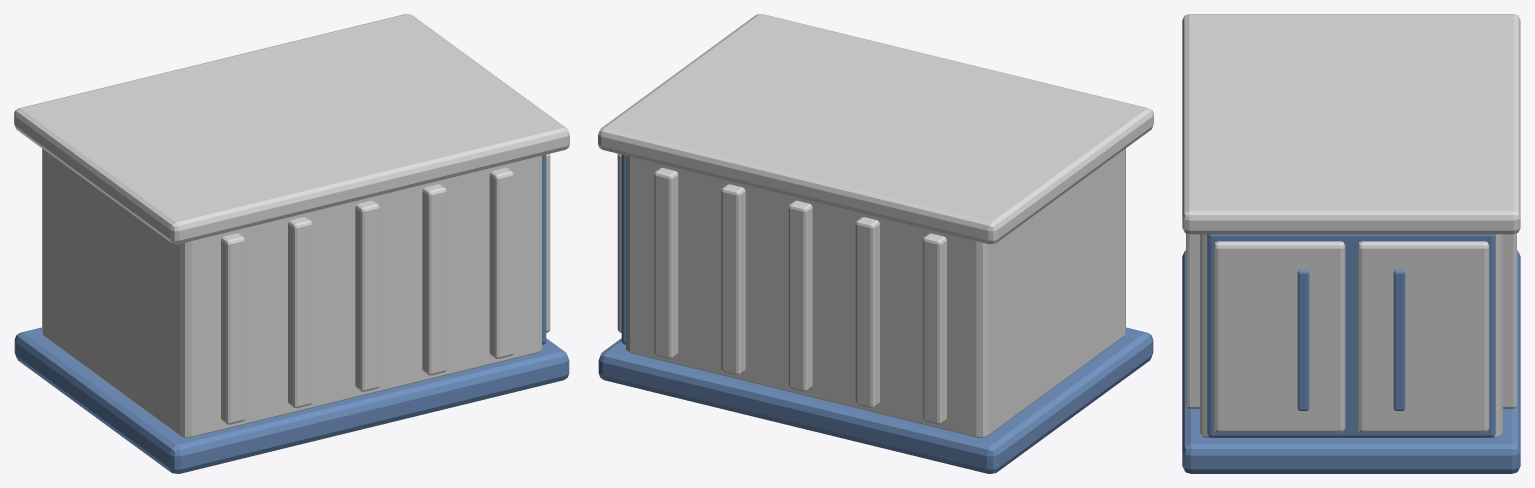
File: container.glb
3 views of the same model, side by side, from view 1: azimuth 30°, elevation 25°; view 2: azimuth 150°, elevation 25°; view 3: azimuth 270°, elevation 25° (orthographic). The views are drawn at different scales.
Parts seen in each view (by area): view 1: shell, roof, underframe, rib.1.1, rib.1.3, rib.1.4, rib.1.2, rib.1.0, door-frame, door.1; view 2: shell, roof, underframe, rib.-1.1, rib.-1.3, rib.-1.4, rib.-1.2, rib.-1.0, door-frame, door.-1; view 3: roof, door.1, door.-1, underframe, door-frame, shell, rib.1.4, rib.-1.4, locking-bar.1, locking-bar.-1.
Boxes of the visible parts, x1=… form: shell: x1=42, y1=148, x2=541, y2=437; roof: x1=14, y1=14, x2=569, y2=244; underframe: x1=14, y1=327, x2=569, y2=473; rib.1.1: x1=288, y1=217, x2=312, y2=408; rib.1.3: x1=422, y1=184, x2=446, y2=375; rib.1.4: x1=489, y1=168, x2=513, y2=358; rib.1.2: x1=355, y1=200, x2=379, y2=391; rib.1.0: x1=221, y1=233, x2=244, y2=424; door-frame: x1=542, y1=154, x2=546, y2=344; door.1: x1=546, y1=153, x2=550, y2=332; shell: x1=626, y1=148, x2=1125, y2=437; roof: x1=598, y1=14, x2=1153, y2=244; underframe: x1=598, y1=327, x2=1153, y2=473; rib.-1.1: x1=855, y1=217, x2=879, y2=408; rib.-1.3: x1=721, y1=184, x2=745, y2=375; rib.-1.4: x1=654, y1=168, x2=678, y2=358; rib.-1.2: x1=788, y1=200, x2=812, y2=391; rib.-1.0: x1=923, y1=233, x2=946, y2=424; door-frame: x1=621, y1=154, x2=625, y2=344; door.-1: x1=617, y1=153, x2=621, y2=332; roof: x1=1182, y1=14, x2=1520, y2=234; door.1: x1=1213, y1=241, x2=1345, y2=432; door.-1: x1=1357, y1=241, x2=1489, y2=432; underframe: x1=1182, y1=250, x2=1520, y2=473; door-frame: x1=1207, y1=234, x2=1495, y2=437; shell: x1=1200, y1=234, x2=1502, y2=437; rib.1.4: x1=1186, y1=233, x2=1199, y2=408; rib.-1.4: x1=1503, y1=233, x2=1516, y2=408; locking-bar.1: x1=1297, y1=270, x2=1309, y2=410; locking-bar.-1: x1=1393, y1=270, x2=1405, y2=410.
Bounding box in the file's own units: 1.9 × 1.15 × 1.34.
